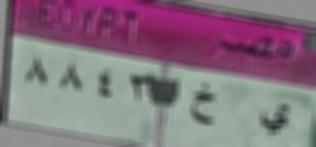3: (124, 70, 155, 107)
4: (92, 64, 120, 110)
8: (55, 63, 87, 98), (22, 55, 48, 94)
khaa: (186, 85, 225, 132)
yaa: (253, 99, 292, 136)
